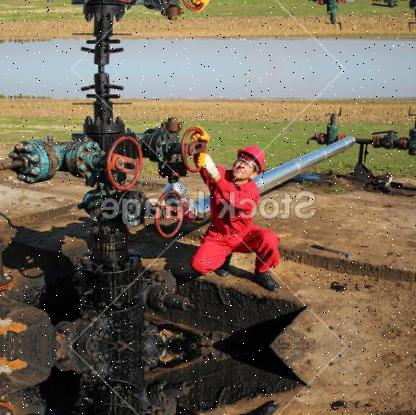helmet: (228, 141, 271, 185)
